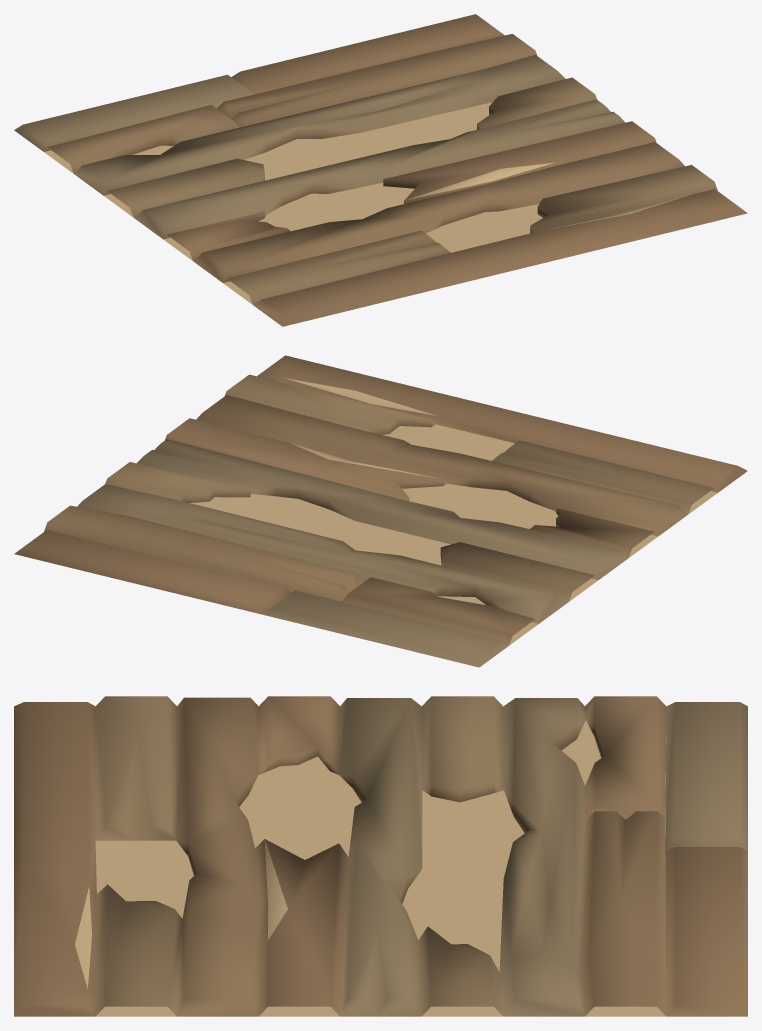
Rendered from rpgpp_av_floor_02a_3x3.gltf.
3 views of the same model, one above another, from view 1: azimuth 30°, elevation 25°; view 2: azimuth 150°, elevation 25°; view 3: azimuth 270°, elevation 25° (orthographic). The views are drawn at different scales.
Visible parts, largest first — view 1: rpgpp_av_floor_02a_3x3; view 2: rpgpp_av_floor_02a_3x3; view 3: rpgpp_av_floor_02a_3x3.
Part boxes in pixels (x1,y1,x2,y2): rpgpp_av_floor_02a_3x3: (14,14,747,326); rpgpp_av_floor_02a_3x3: (14,355,747,667); rpgpp_av_floor_02a_3x3: (14,696,747,1016).
Size of the model in its own units: 0.03 by 0.000584 by 0.03.
Materials: 1 (1 with a texture image).
